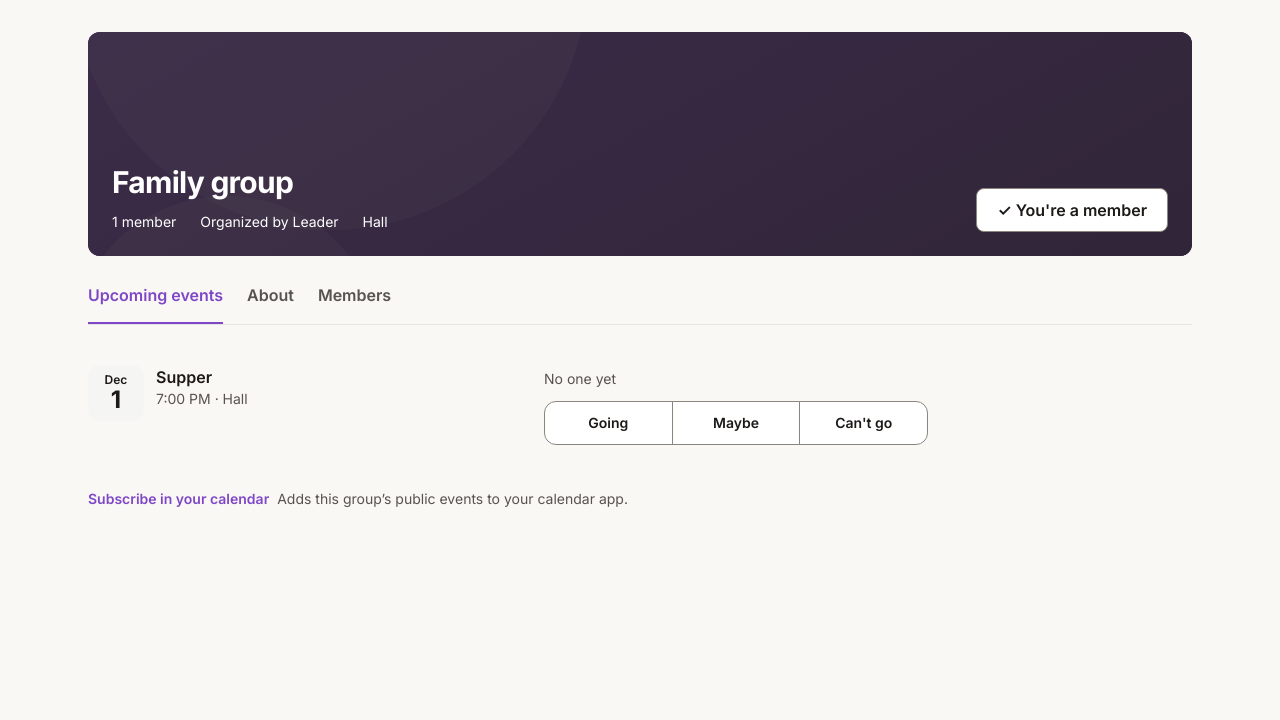
Scenario: shows the authoritative series result on a group card while its parent GET is held
Click the button "Going". click: (608,423)
box: 544,401 -> 673,445
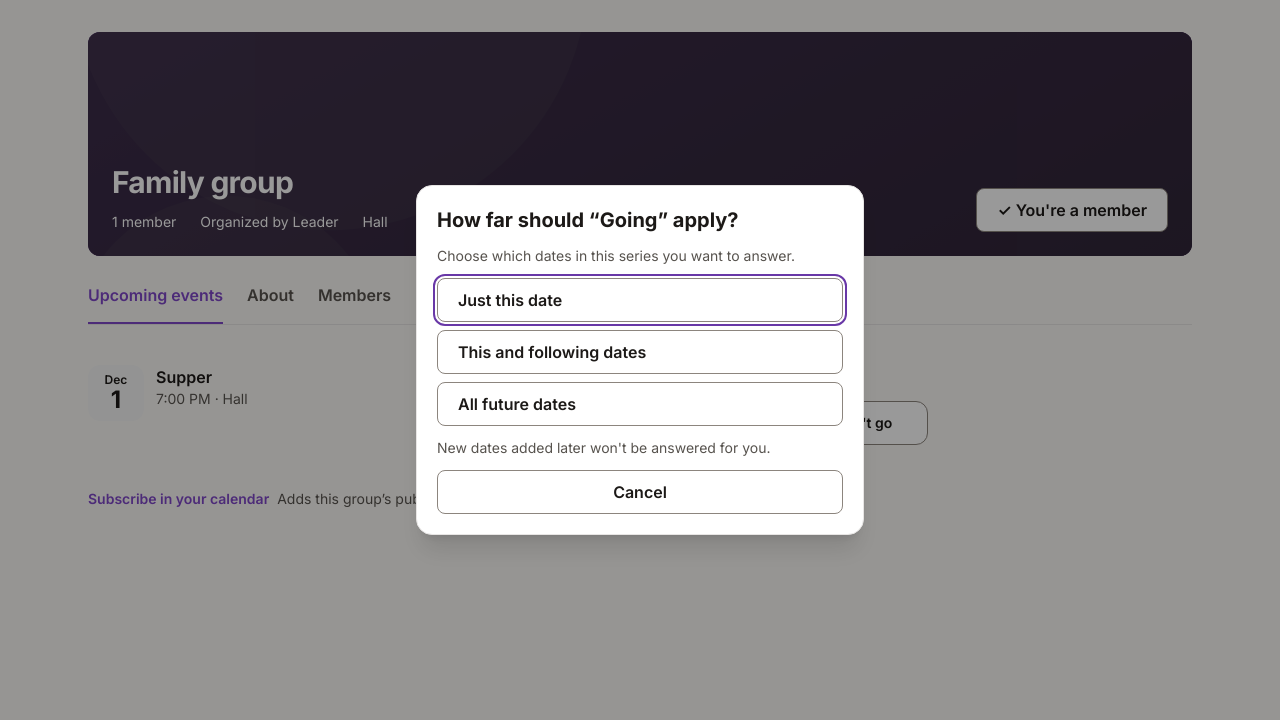
Click the button "All future dates". click: (517,404)
box: 437,382 -> 843,426
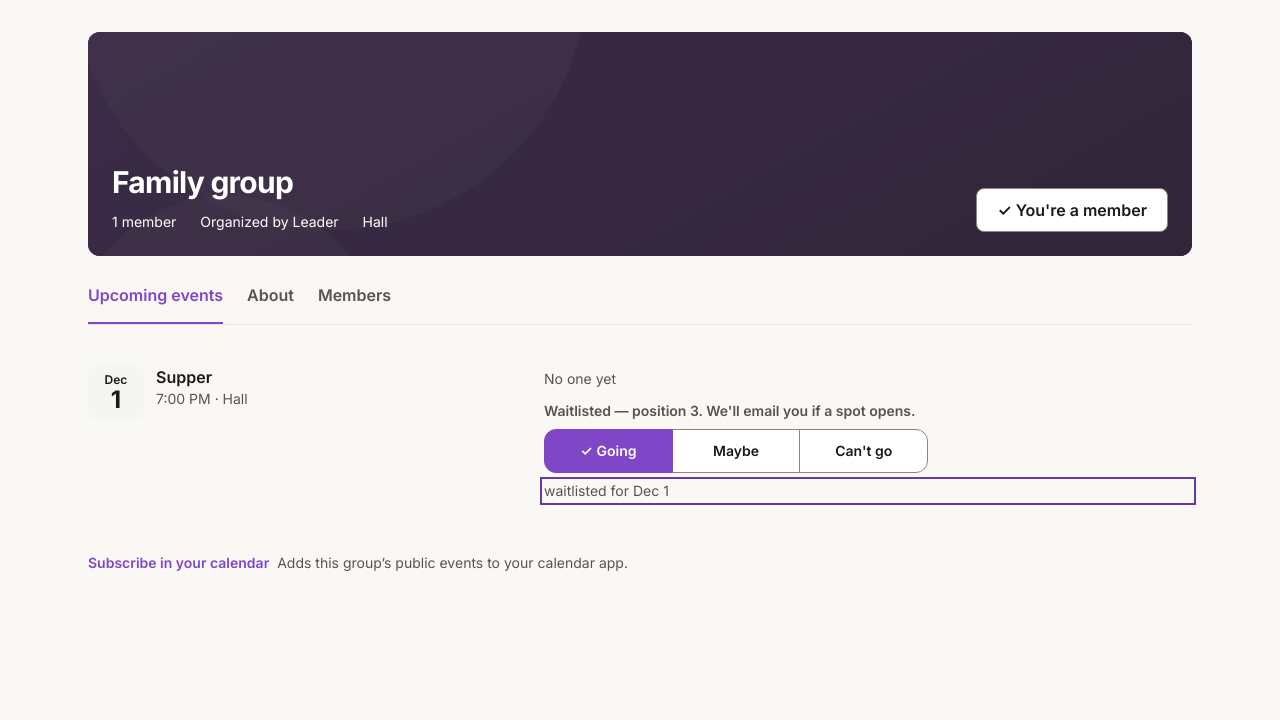
Check: the text "Waitlisted — position 3. We'll email you if a spot opens." is shown, box 544,402 -> 916,419
